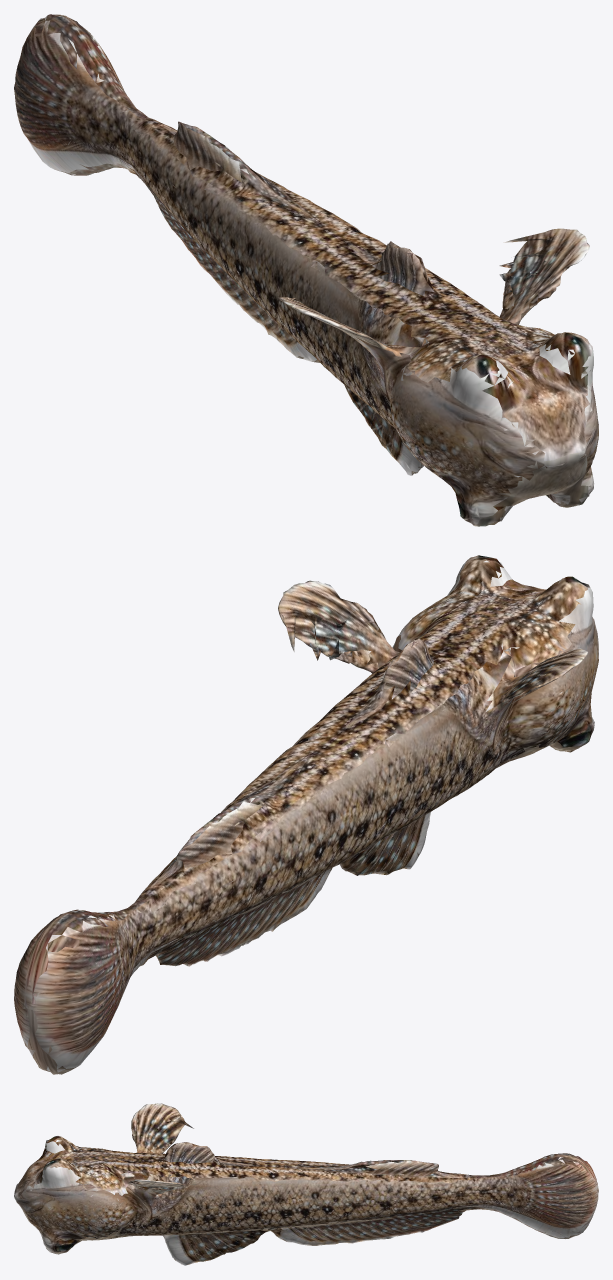
Rendered from fish_mudskip.glb.
3 views of the same model, one above another, from view 1: azimuth 30°, elevation 25°; view 2: azimuth 150°, elevation 25°; view 3: azimuth 270°, elevation 25° (orthographic). The views are drawn at different scales.
Visible parts, largest first — view 1: orient; view 2: orient; view 3: orient.
Boxes of the visible parts, x1=… form: orient: x1=14, y1=14, x2=598, y2=526; orient: x1=14, y1=555, x2=598, y2=1074; orient: x1=14, y1=1103, x2=598, y2=1265.
Bounding box in the file's own units: 0.6289 × 0.4608 × 1.97.
1 material, 1 textured.
